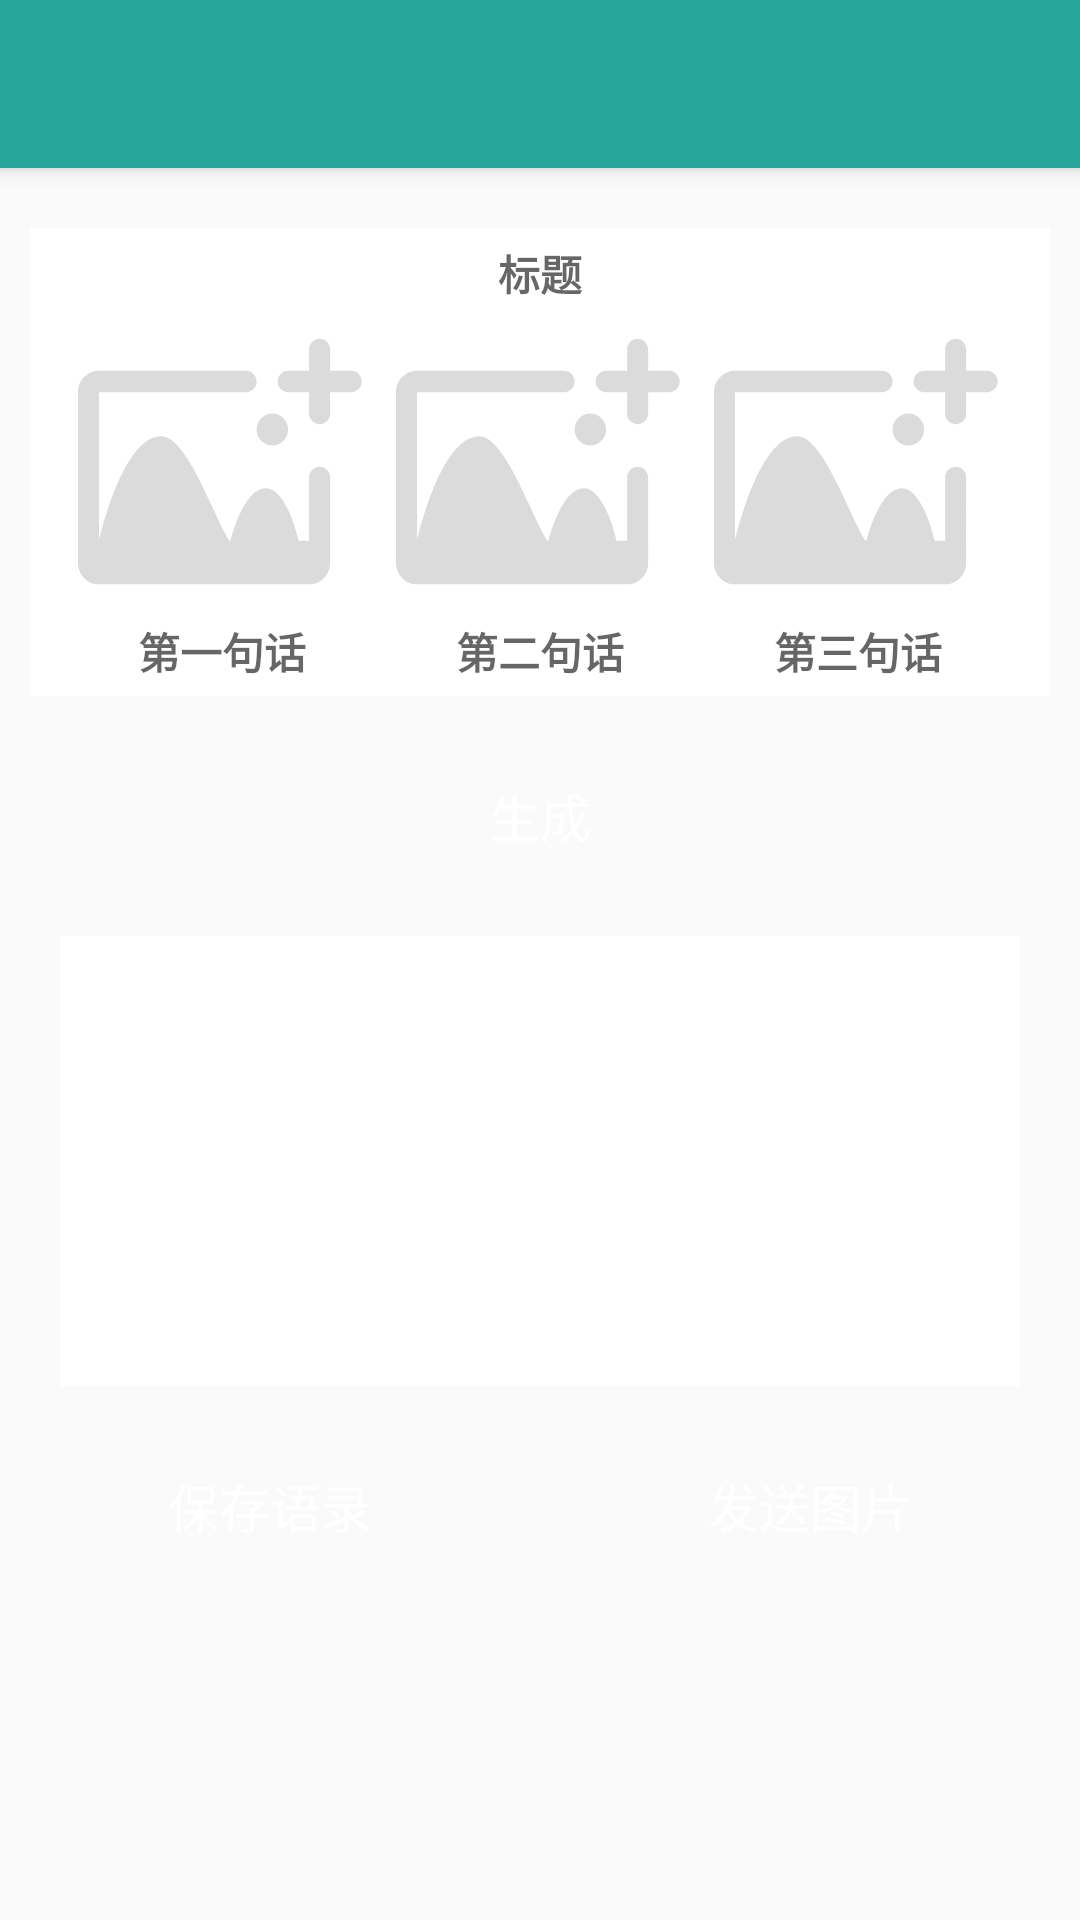

Icons on this 1080x1920 Android screen, each with the point to tap as (x=x, y=y):
add picture: (x=219, y=461), (x=537, y=461), (x=855, y=461)
